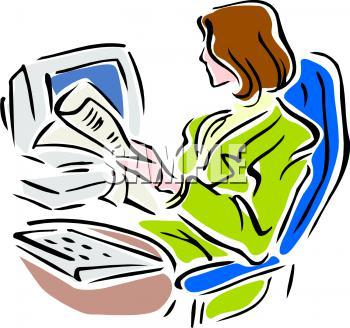person: (114, 1, 328, 323)
tvmonitor: (1, 43, 159, 216)
